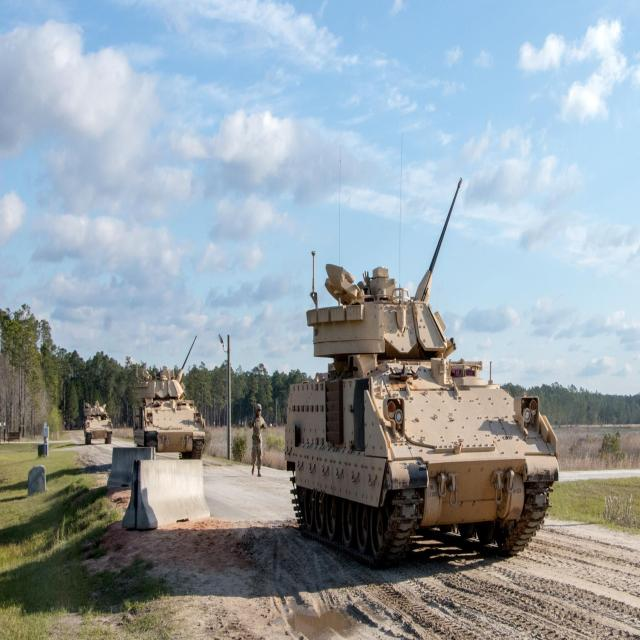Tanks: (291, 263, 556, 576), (133, 372, 209, 460), (85, 406, 114, 450)
